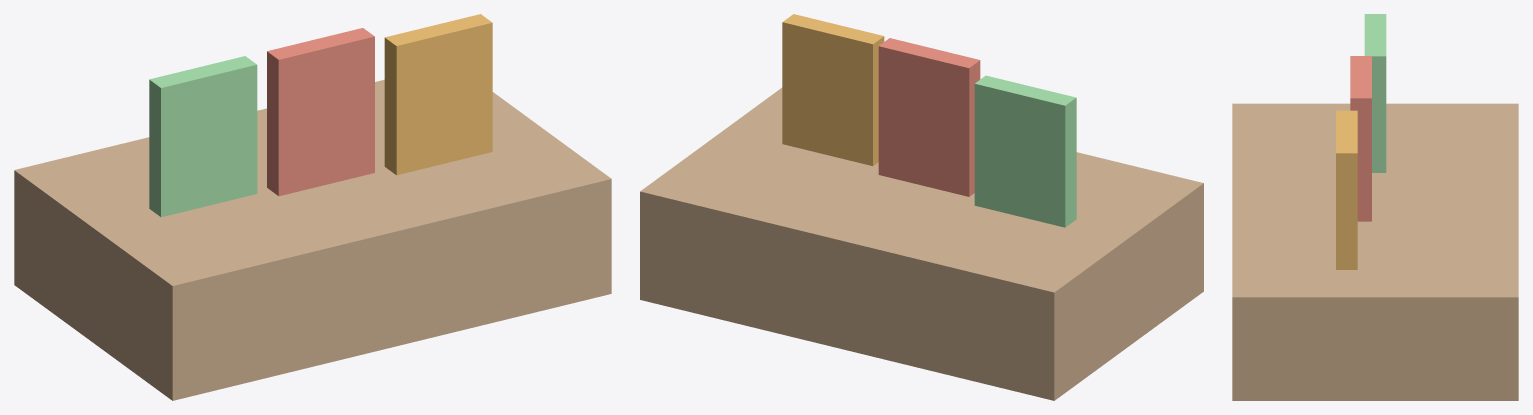
The model's file is tool_seed_packets.glb.
3 views of the same model, side by side, from view 1: azimuth 30°, elevation 25°; view 2: azimuth 150°, elevation 25°; view 3: azimuth 270°, elevation 25° (orthographic). The views are drawn at different scales.
Visible parts, largest first — view 1: ToolSeedPackets; view 2: ToolSeedPackets; view 3: ToolSeedPackets.
Part boxes in pixels (bbox=[...]): ToolSeedPackets: bbox=[14, 14, 611, 400]; ToolSeedPackets: bbox=[640, 14, 1203, 400]; ToolSeedPackets: bbox=[1232, 14, 1518, 400].
Size of the model in its own units: 0.32 by 0.175 by 0.2.
